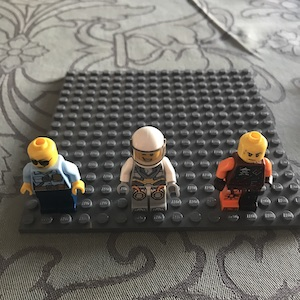Lego: (117, 126, 180, 213), (20, 137, 87, 213), (213, 130, 274, 210)
